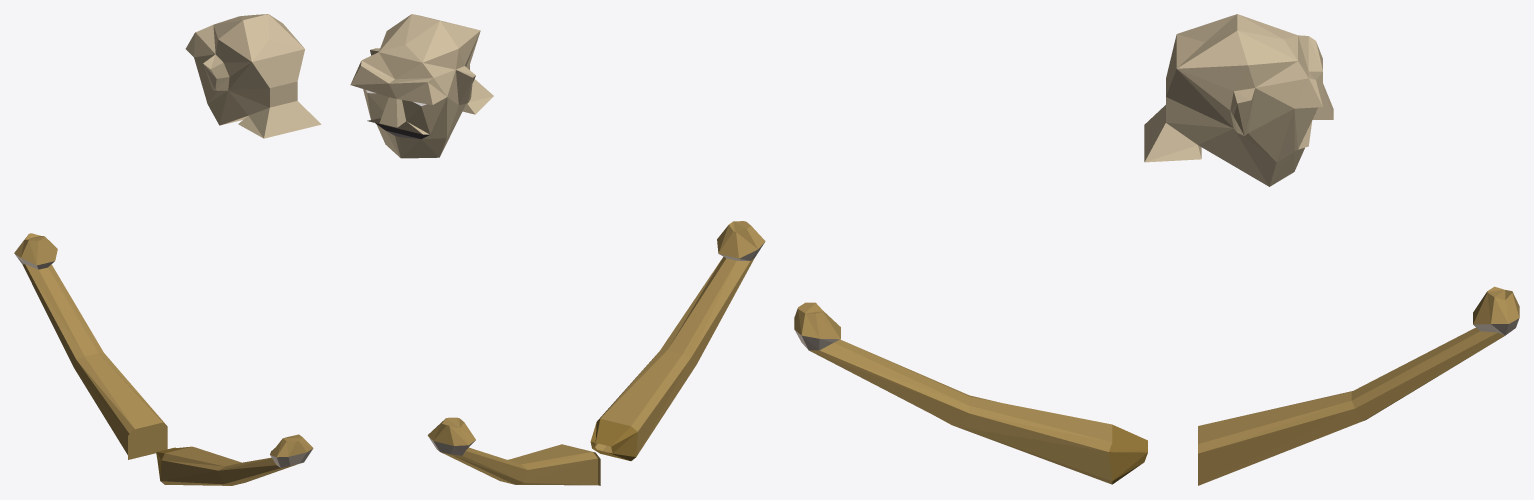
File: npc_world_rantz_1.obj
3 views of the same model, side by side, from view 1: azimuth 30°, elevation 25°; view 2: azimuth 150°, elevation 25°; view 3: azimuth 270°, elevation 25° (orthographic). The views are drawn at different scales.
Bounding box in the file's own units: 0.6328 × 1.29 × 1.59.
